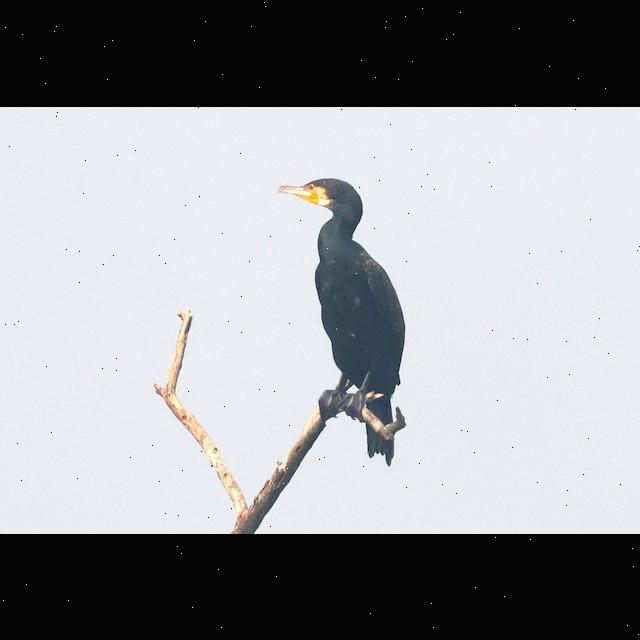cormorant: (272, 171, 416, 463)
